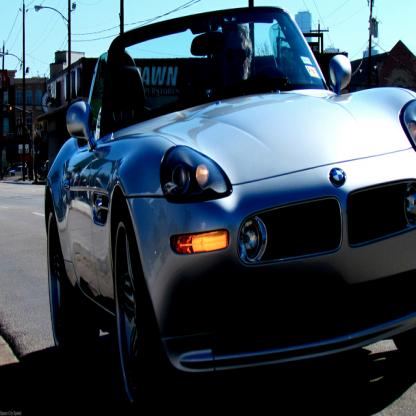Car: (45, 8, 416, 403)
